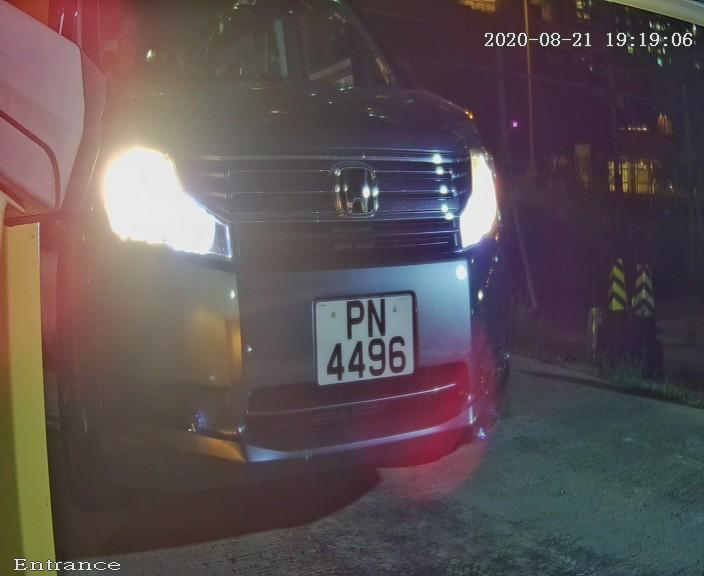Car: (13, 3, 560, 538)
License Plate: (302, 276, 425, 402)
